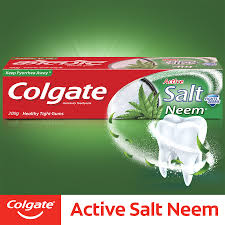colgate-medium: (3, 58, 218, 118)
